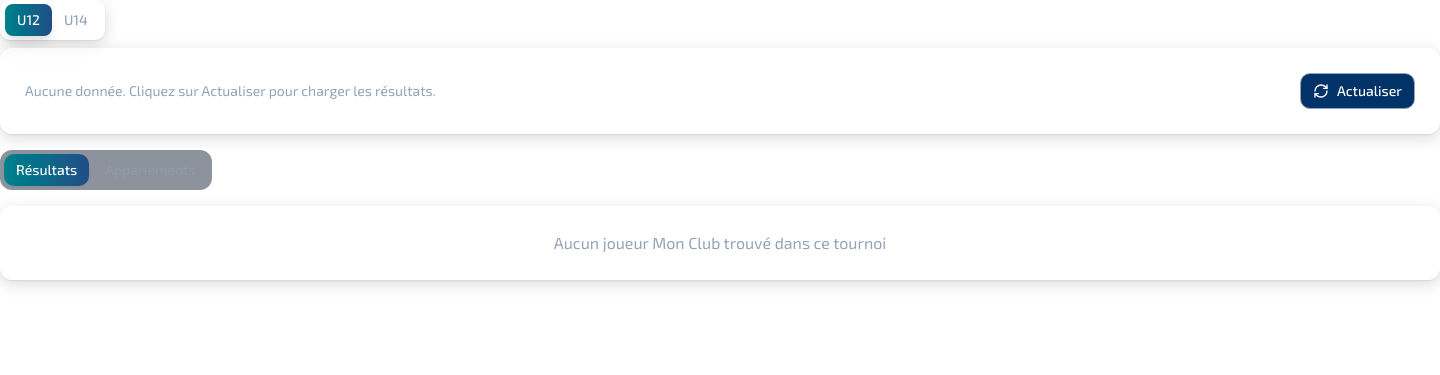
Test case: TournamentTabs › Phase 2: Fetch Results (with clubName) › handles API timeout error gracefully
What coordinates should you click on to do the following:
click the button "Actualiser"
I would click on:
 (1357, 91)
Its box is [1300,73,1415,109].
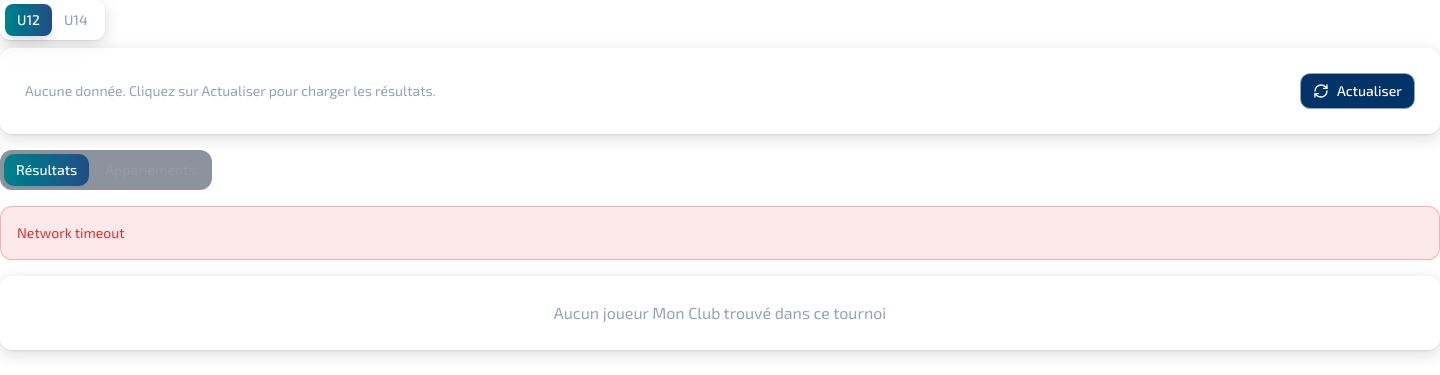
Now the text "Network timeout" is shown, box [17,224,124,241]
